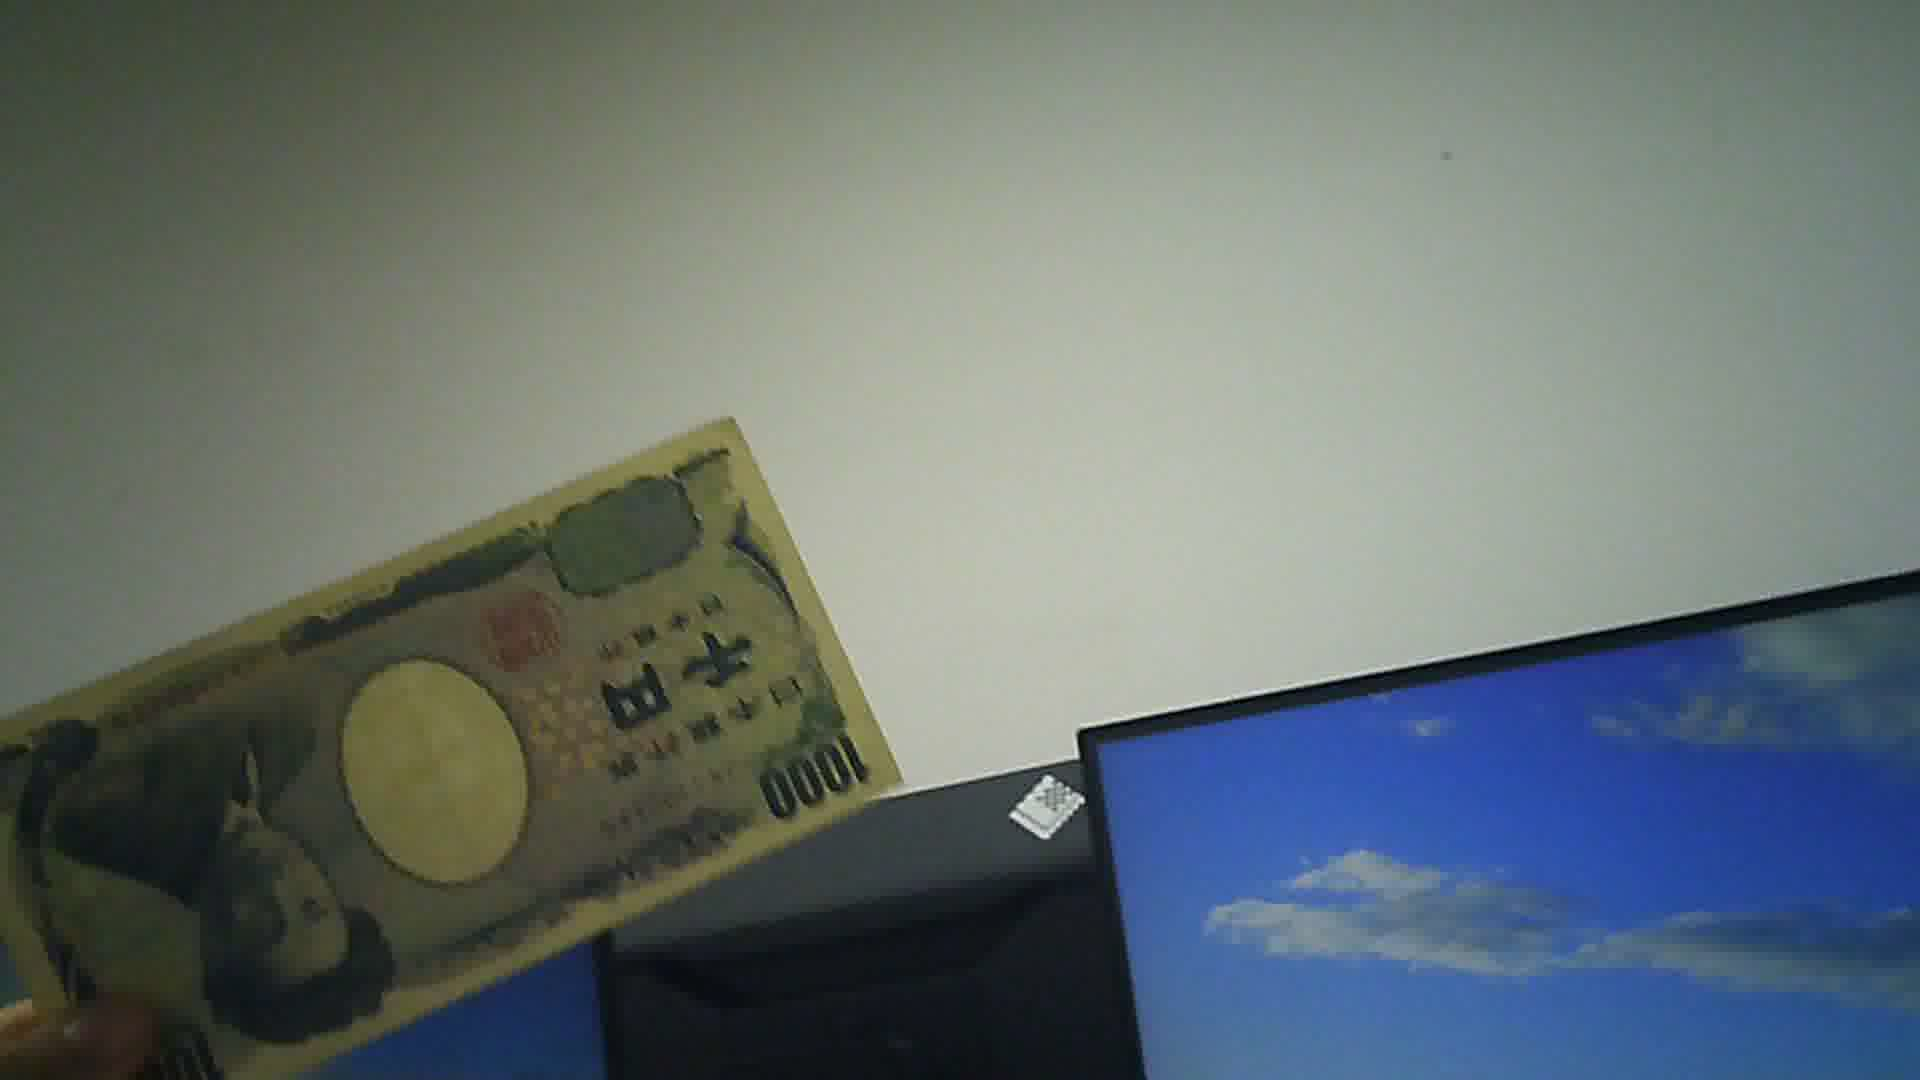1,000 Yen: (5, 396, 899, 1069)
